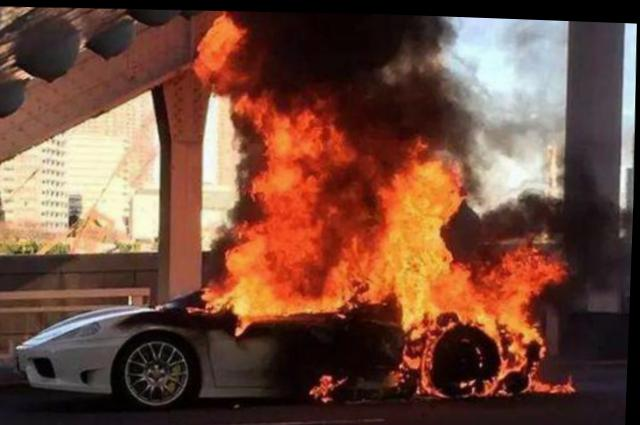fire: (174, 8, 576, 412)
